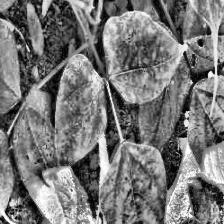ALS: (52, 49, 108, 172), (108, 11, 182, 104), (104, 140, 176, 224)
